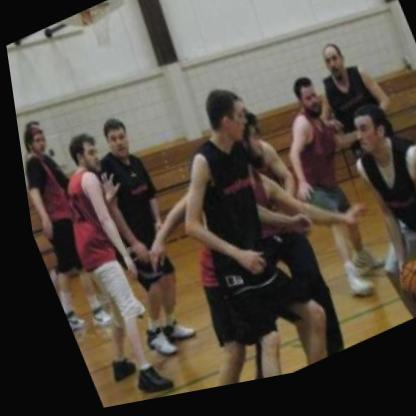basketball: (367, 259, 416, 334)
